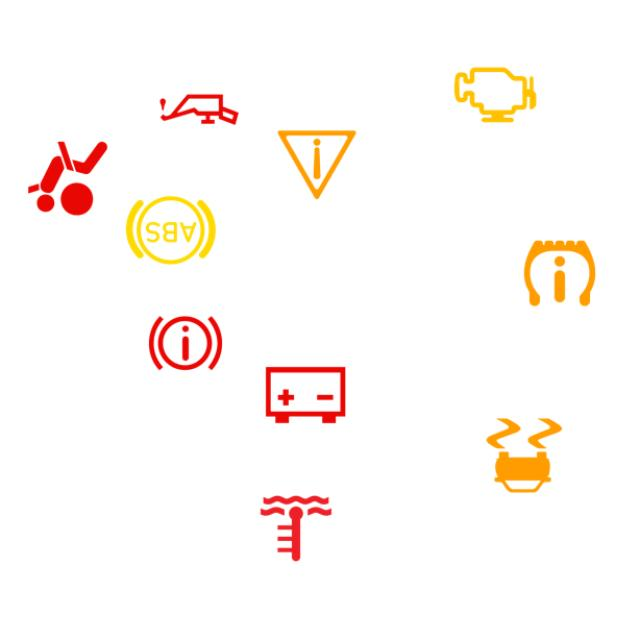Anti Lock Braking System: (122, 182, 220, 280)
Braking System Issue: (136, 294, 235, 392)
Charging System Issue: (256, 346, 354, 444)
Check Engine: (446, 46, 544, 144)
Electronic Stability Problem -ESP-: (476, 406, 574, 504)
Engine Overheating Warning Light: (247, 480, 345, 578)
Low Engine Oil Warning Light: (150, 60, 248, 158)
Low Tire Pressure Warning Light: (511, 224, 608, 322)
Master warning light: (268, 115, 366, 214)
SRS-Airbag: (19, 129, 117, 227)
